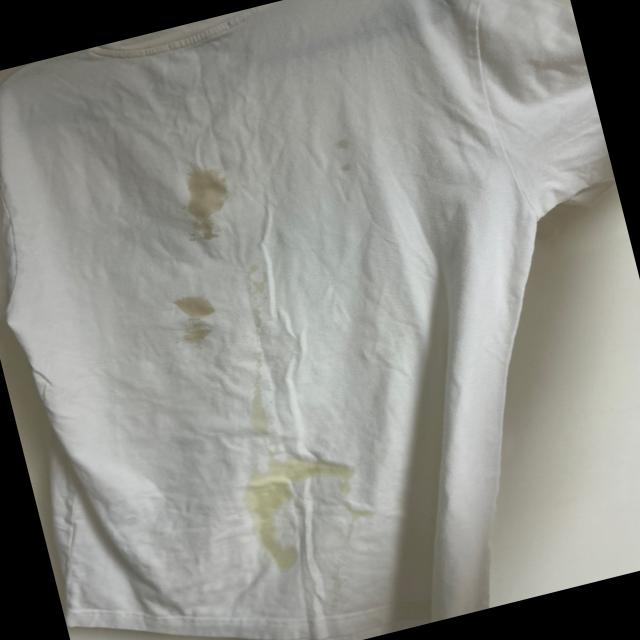stain: (239, 434, 358, 502), (239, 485, 314, 579), (172, 165, 248, 252), (170, 282, 230, 344), (305, 124, 360, 184), (232, 255, 278, 306), (238, 380, 272, 434)
